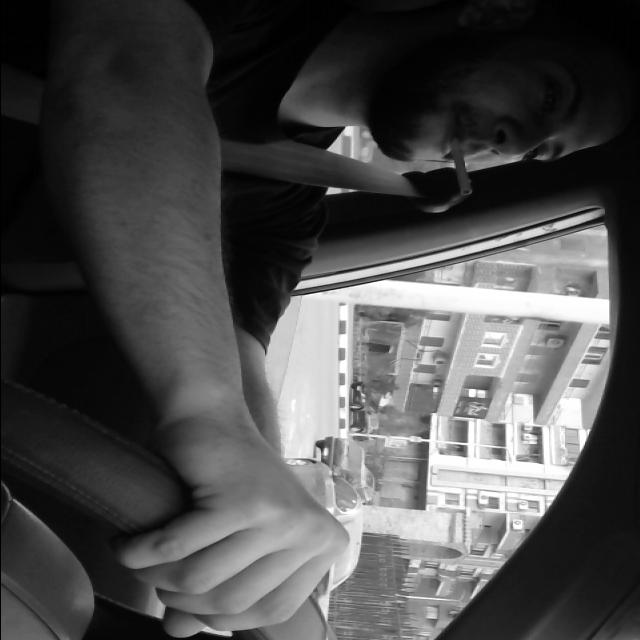smoking: (442, 134, 476, 204)
